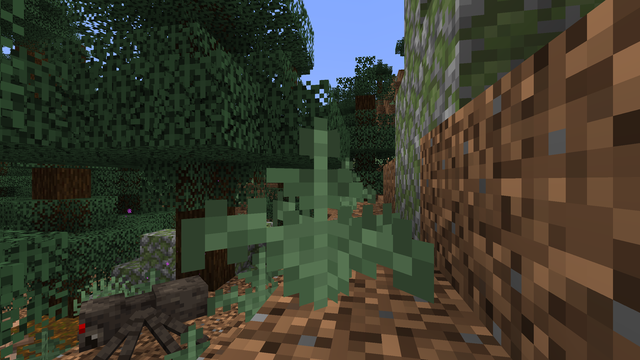araignees: (50, 270, 206, 358)
